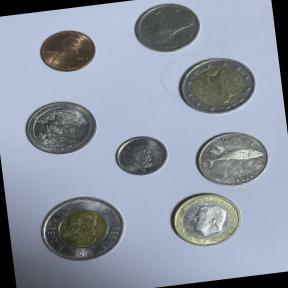coin: (33, 188, 132, 268), (171, 48, 264, 122), (188, 125, 276, 192), (164, 186, 247, 253), (20, 94, 102, 160), (35, 24, 100, 78), (111, 130, 173, 182)
